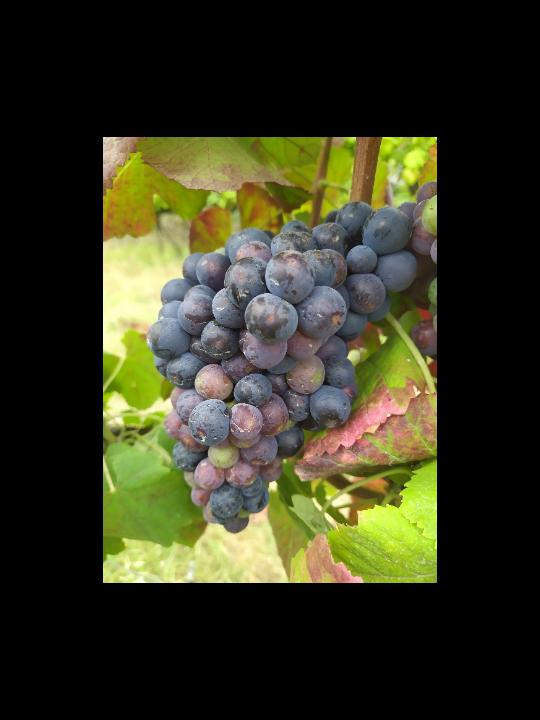grape: (145, 196, 419, 536)
